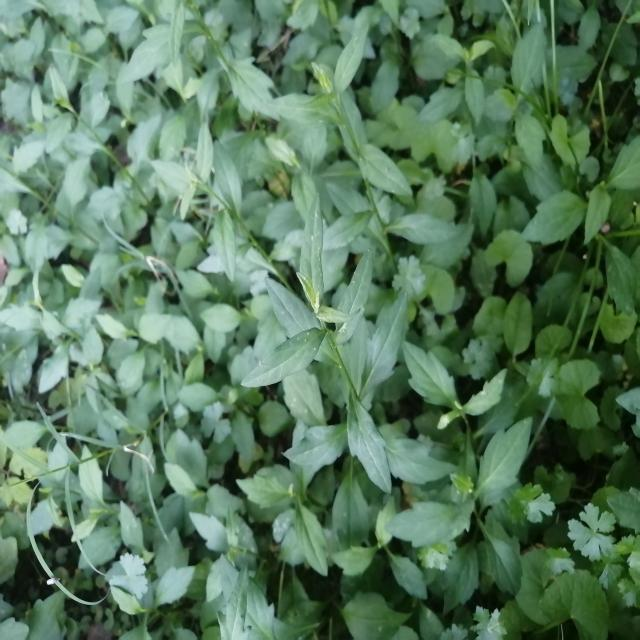Indian aster: (280, 233, 420, 494), (272, 38, 436, 260)
